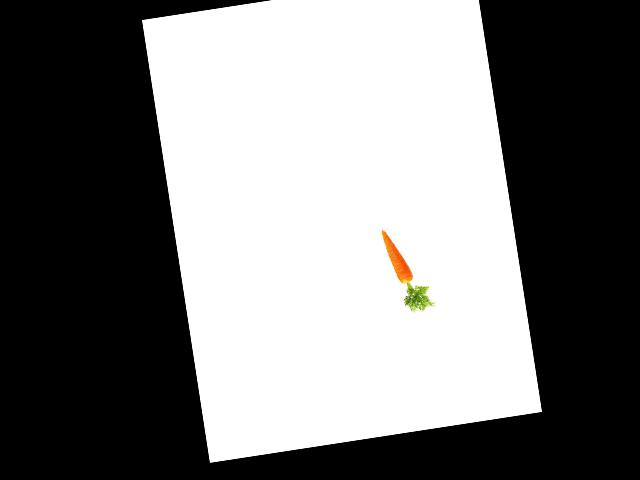carrot: (379, 223, 415, 287)
